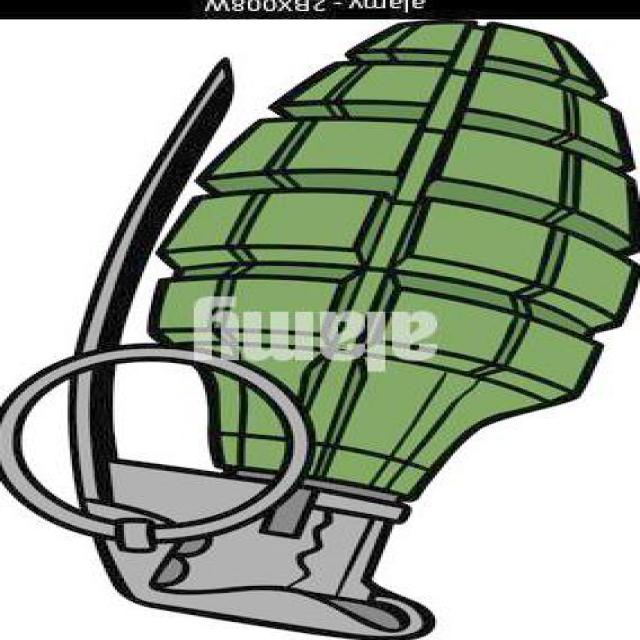grenade: (3, 20, 639, 640)
